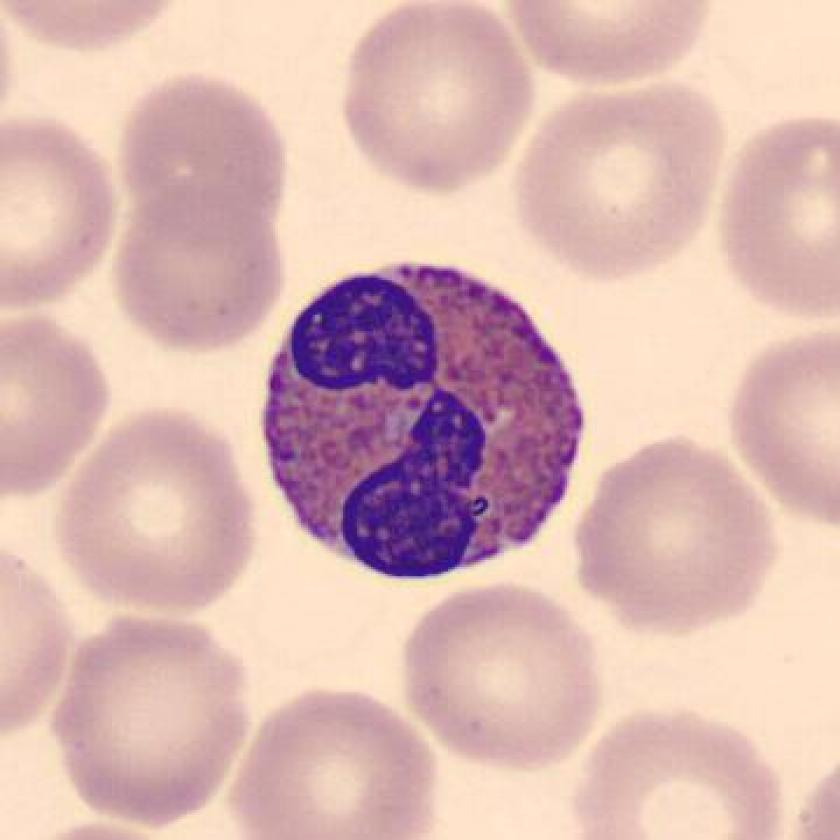eosinophil: (251, 237, 598, 596)
